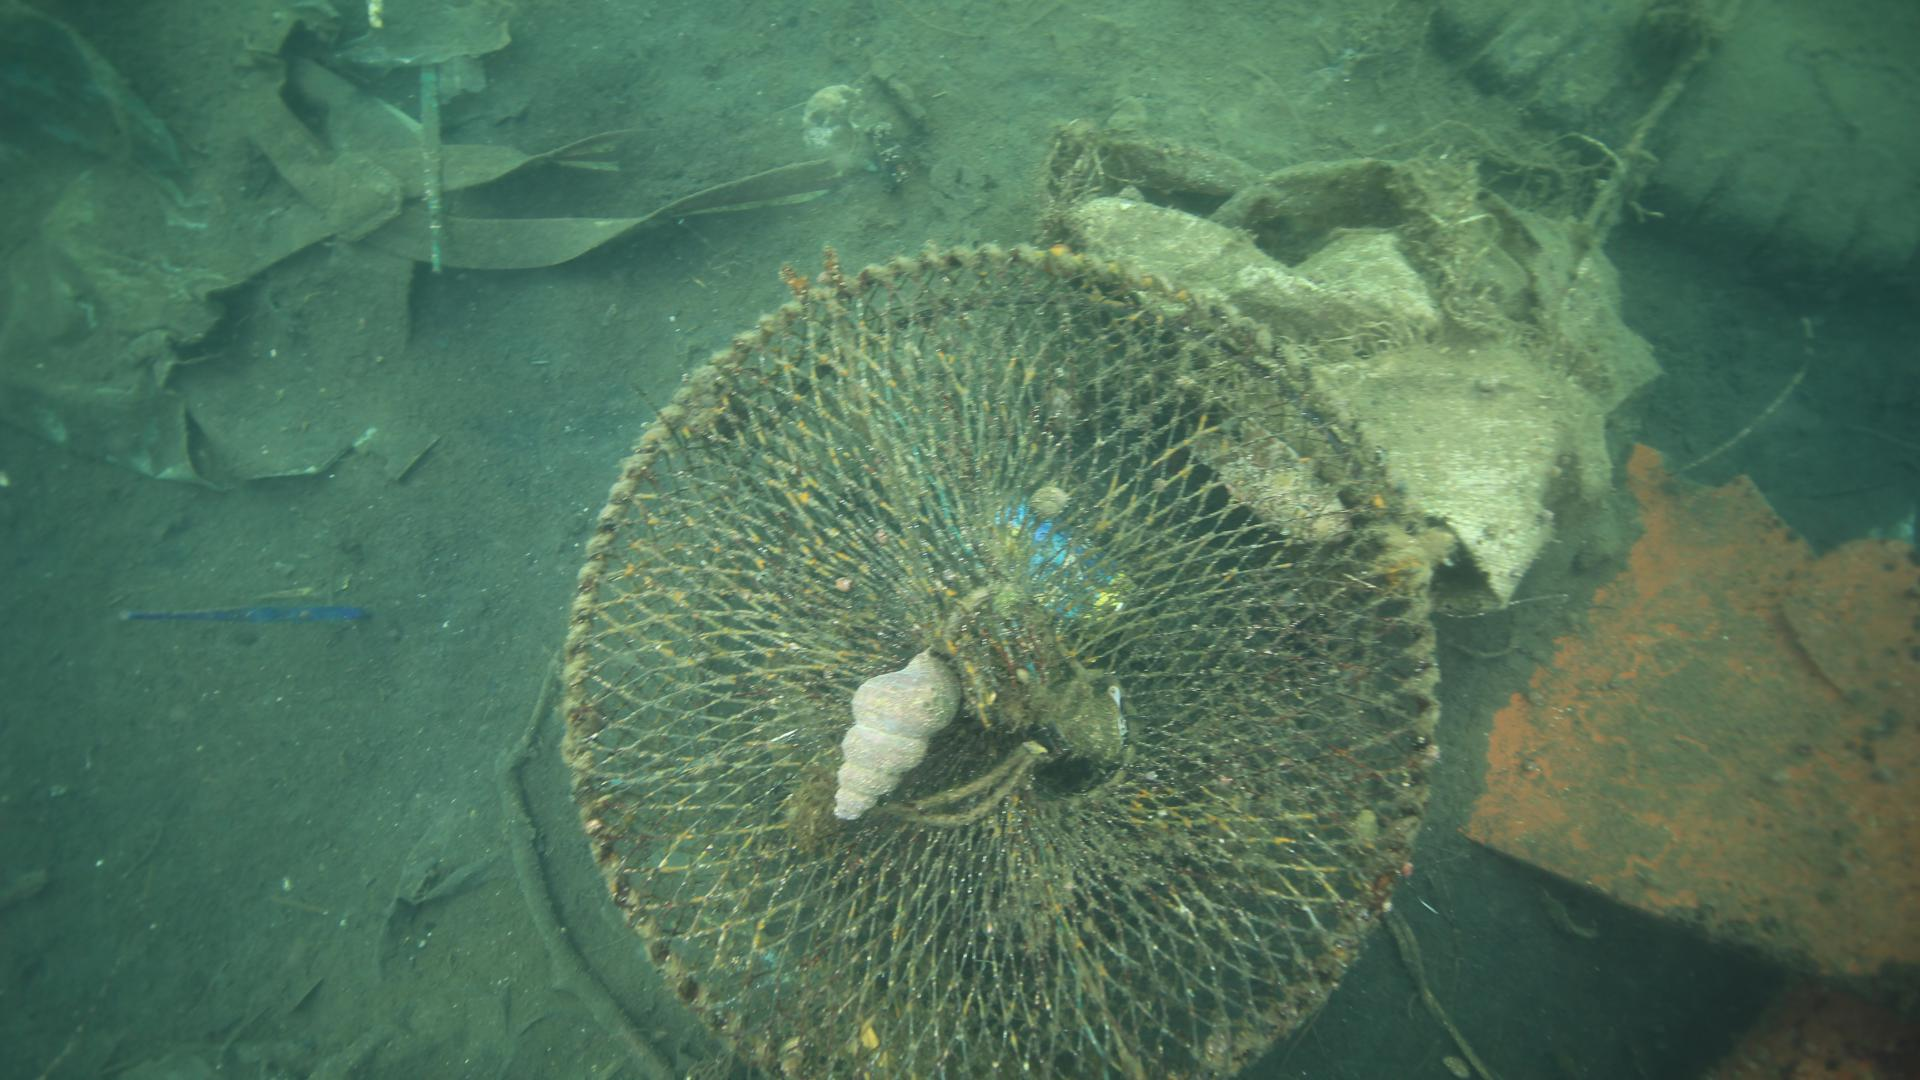circular fish trap: (551, 239, 1445, 1080)
